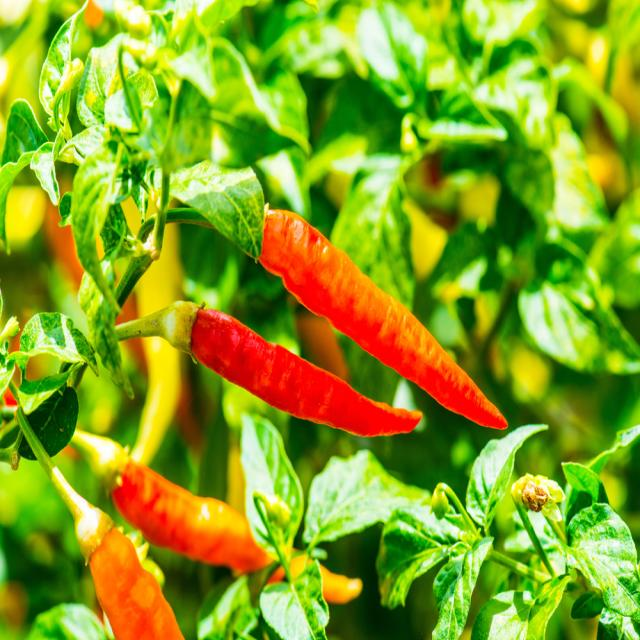Ripe: (259, 207, 508, 428), (190, 309, 421, 436), (71, 431, 271, 573), (89, 527, 184, 639)
